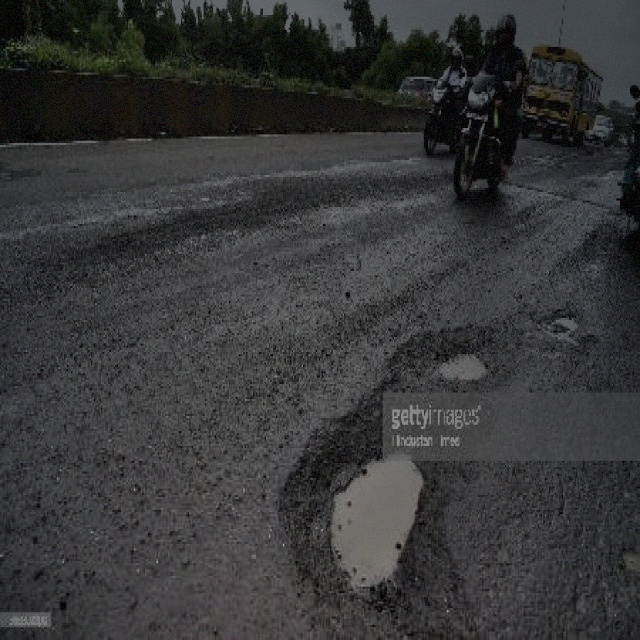pothole: (276, 409, 471, 638), (380, 318, 508, 390), (535, 305, 587, 352)
